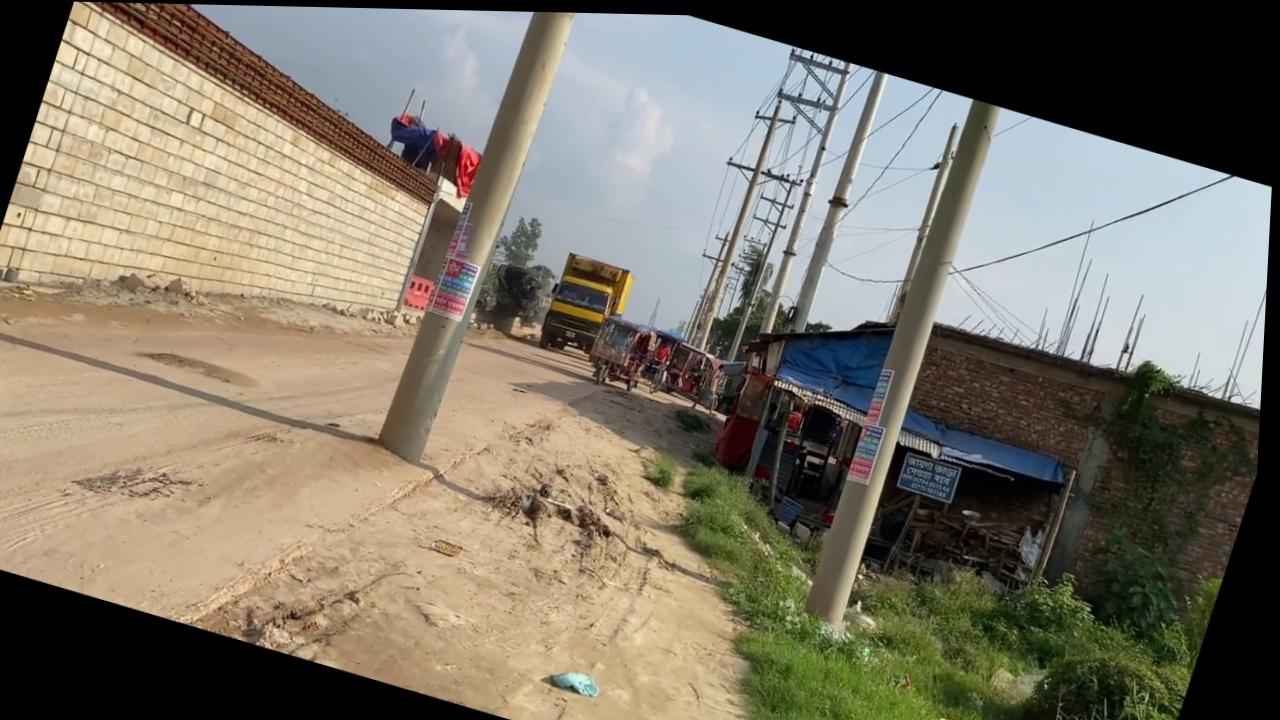Construction-barrier: (0, 0, 494, 395)
Garbage: (555, 660, 610, 696)
Pole: (803, 90, 1009, 630), (376, 7, 584, 468), (744, 63, 889, 480), (758, 56, 858, 335), (695, 90, 789, 350)
Pothole: (136, 338, 268, 393)
Rickshaw: (460, 349, 791, 720)
Tree: (536, 246, 640, 364)
